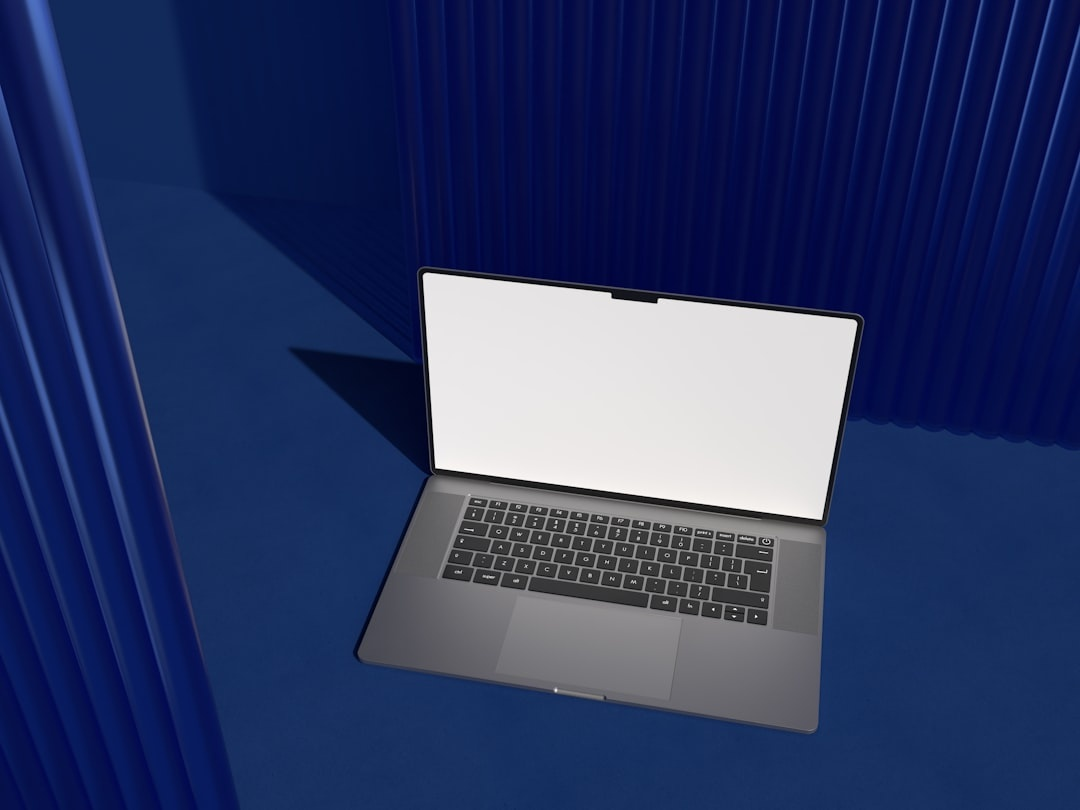laptop: (315, 221, 878, 759)
